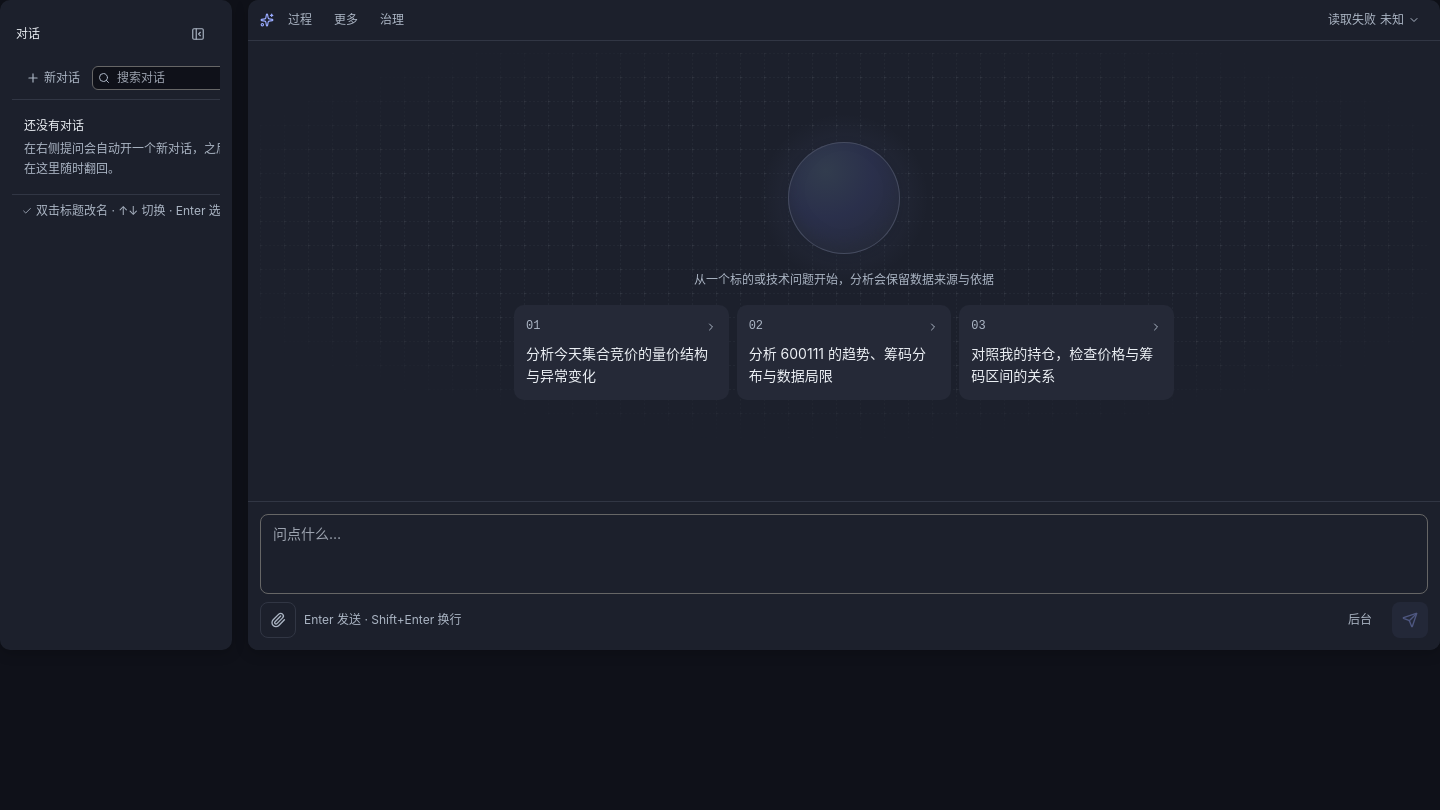
Test: 参谋页信息架构 › 对话栏可折叠，折叠后能从工具条再展开
Expected: the element with test id "copilot-conversation-rail" is shown, [0,0,232,650]
Click the button with test id "copilot-rail-collapse" at (198, 34), box [180,16,216,52]
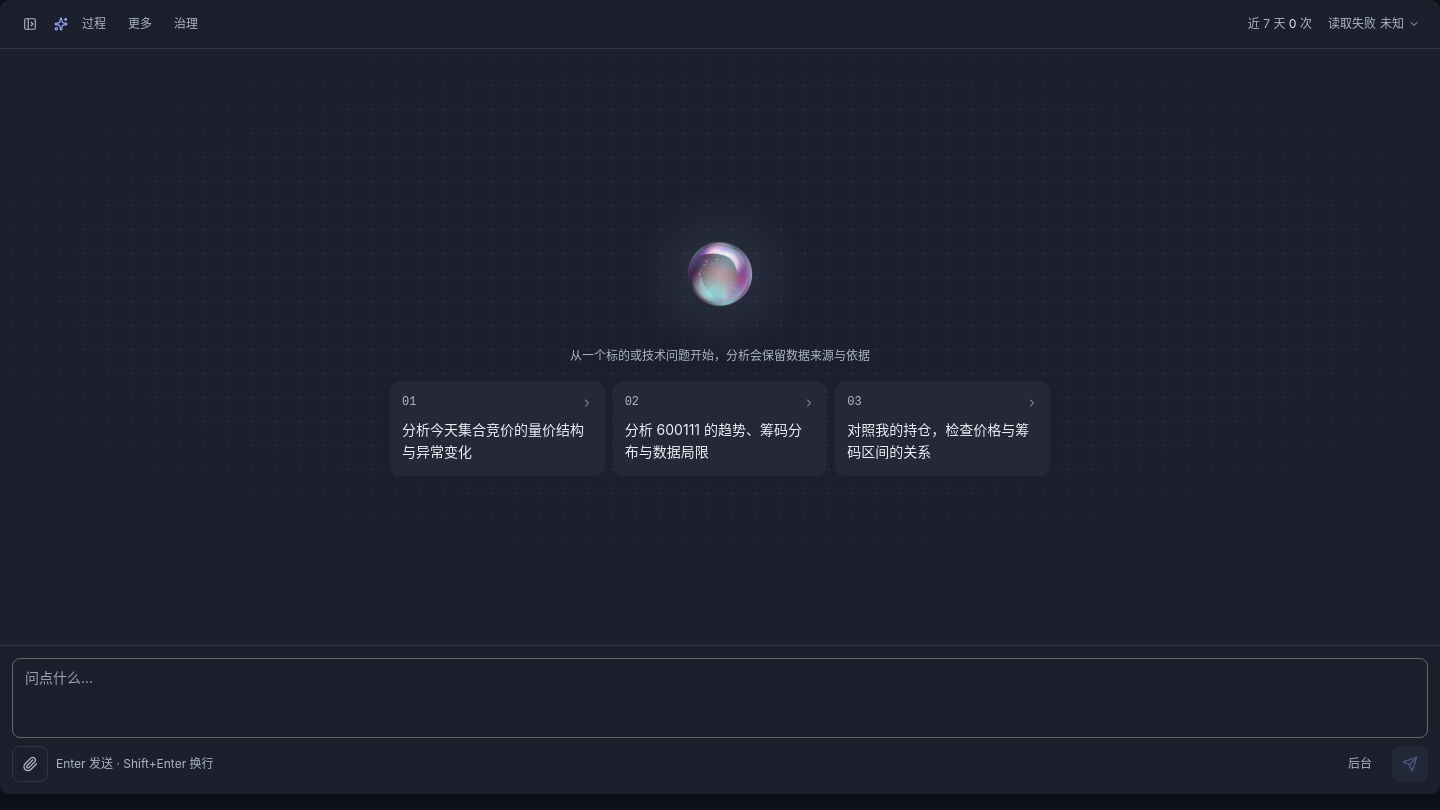
Expected: the element with test id "copilot-conversation-rail" is gone
Click the button with test id "copilot-rail-expand" at (30, 24), box [12,6,48,42]
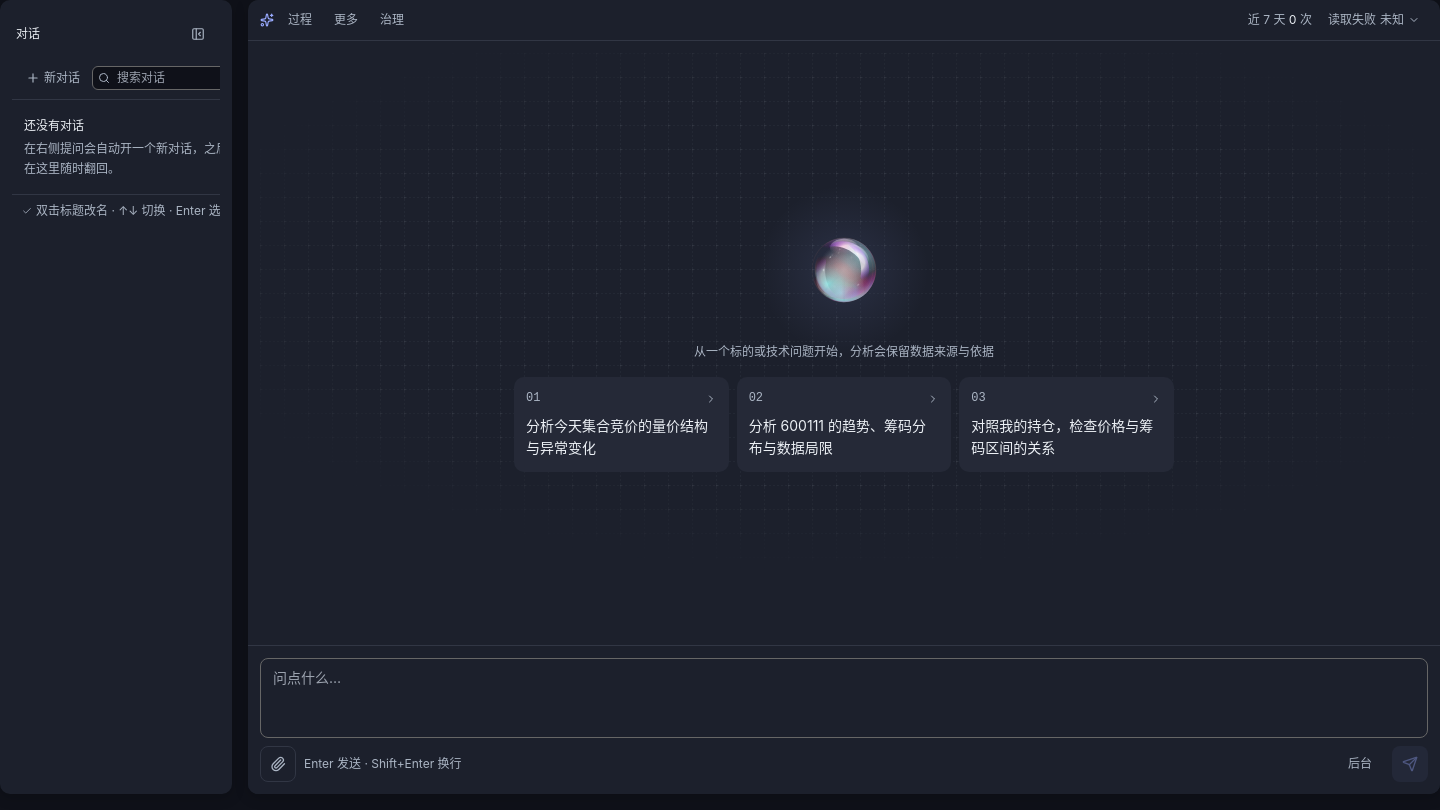
Expected: the element with test id "copilot-conversation-rail" is shown, [0,0,232,794]
